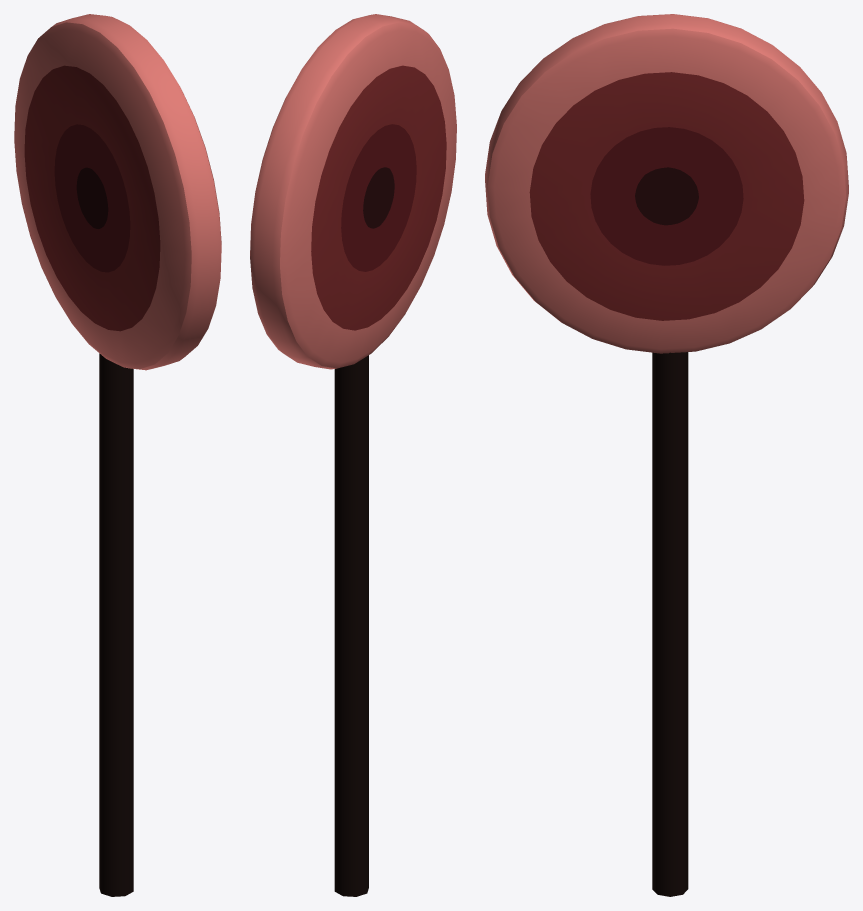
File: SM_Lolly_Red.fbx
3 renders of one model, left to right at view 1: azimuth 30°, elevation 25°; view 2: azimuth 150°, elevation 25°; view 3: azimuth 270°, elevation 25°, orthographic.
Visible parts, largest first — view 1: SM_Lolly_Red; view 2: SM_Lolly_Red; view 3: SM_Lolly_Red.
Boxes of the visible parts, x1,y1,x2,y2 form: SM_Lolly_Red: (14,14,221,896); SM_Lolly_Red: (250,14,456,896); SM_Lolly_Red: (485,14,848,896).
Size of the model in its own units: 0.0568 by 0.9166 by 0.3472.
